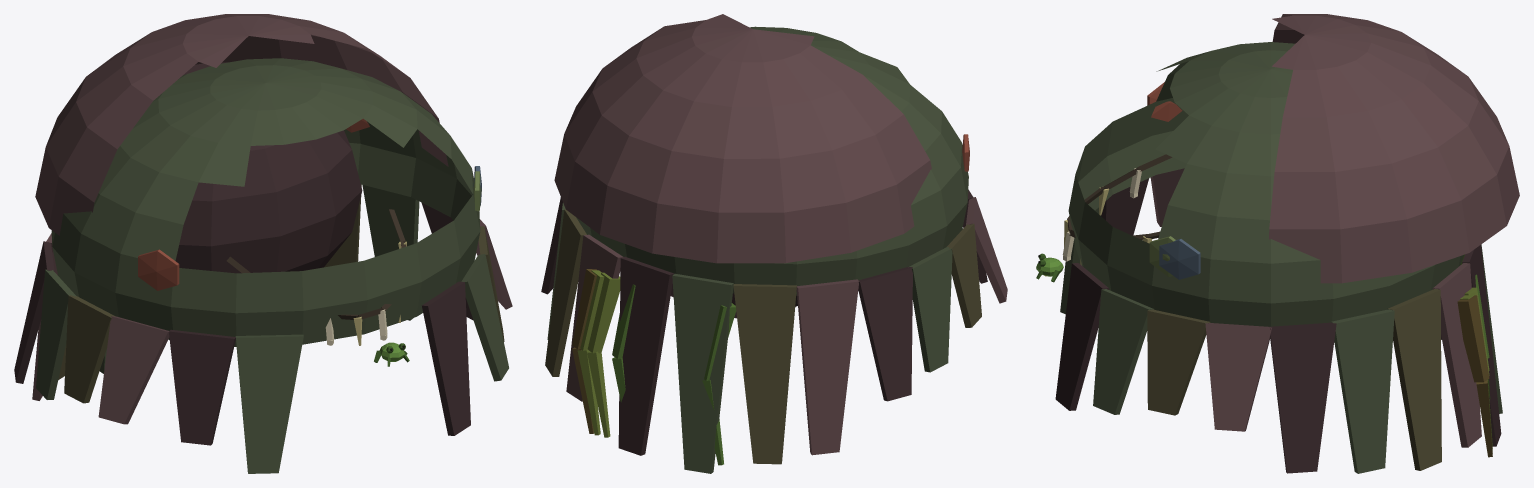
Rendered from granny_mirewhistle_shawl.glb.
3 renders of one model, left to right at view 1: azimuth 30°, elevation 25°; view 2: azimuth 150°, elevation 25°; view 3: azimuth 270°, elevation 25°, orthographic. The views are drawn at different scales.
Visible parts, largest first — view 1: granny_mirewhistle_shawl; view 2: granny_mirewhistle_shawl; view 3: granny_mirewhistle_shawl.
Part boxes in pixels (<box>): granny_mirewhistle_shawl: <box>14,14,512,473</box>; granny_mirewhistle_shawl: <box>541,14,1007,473</box>; granny_mirewhistle_shawl: <box>1036,14,1519,473</box>.
Size of the model in its own units: 1.19 by 1.02 by 1.15.
